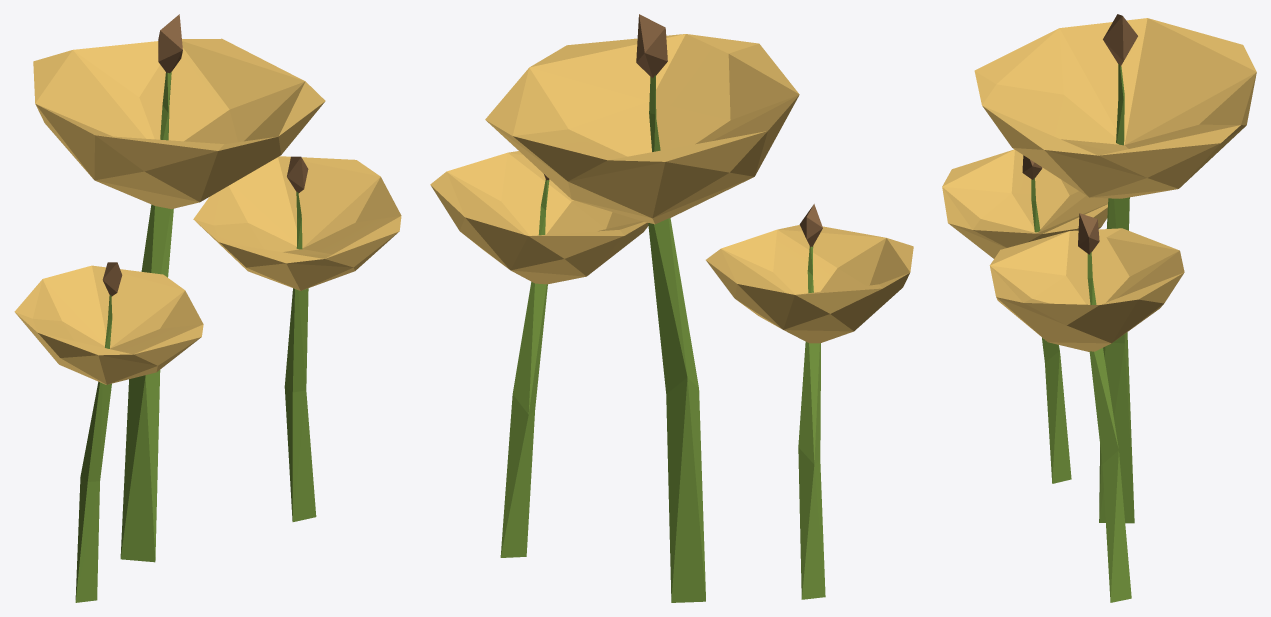
File: Flower_03.fbx
3 views of the same model, side by side, from view 1: azimuth 30°, elevation 25°; view 2: azimuth 150°, elevation 25°; view 3: azimuth 270°, elevation 25° (orthographic). The views are drawn at different scales.
Visible parts, largest first — view 1: Flower_03; view 2: Flower_03; view 3: Flower_03.
Part boxes in pixels (left/top/right/bottom): Flower_03: left=14, top=14, right=401, bottom=602; Flower_03: left=430, top=14, right=913, bottom=602; Flower_03: left=942, top=14, right=1256, bottom=602.
Size of the model in its own units: 14.51 by 19.09 by 10.36.
